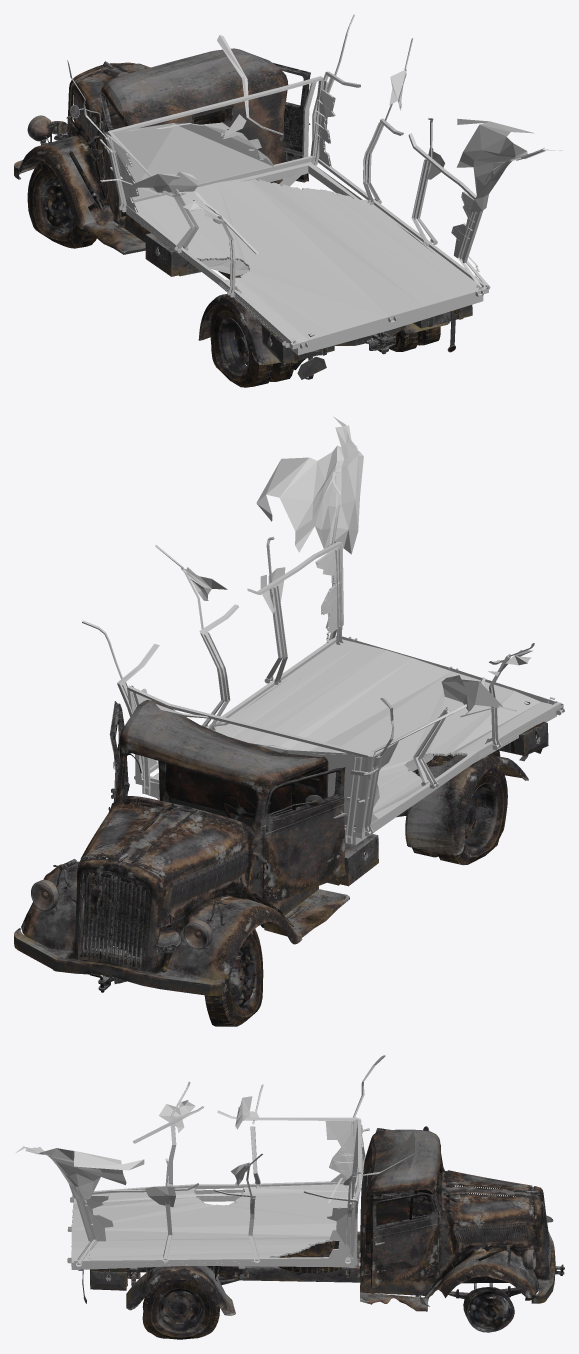
File: opel_blitz_damaged.obj
The picture shows the model from 3 angles, top to bottom: view 1: azimuth 30°, elevation 25°; view 2: azimuth 150°, elevation 25°; view 3: azimuth 270°, elevation 25°; orthographic projection. The views are drawn at different scales.
Parts seen in each view (by area): view 1: opel_blitz_damaged; view 2: opel_blitz_damaged; view 3: opel_blitz_damaged.
Boxes of the visible parts, box(x1,y1,x2,y2) form: opel_blitz_damaged: box(14, 14, 562, 387); opel_blitz_damaged: box(14, 416, 564, 1026); opel_blitz_damaged: box(15, 1055, 564, 1339).
Bounding box in the file's own units: 256 × 192 × 470.
